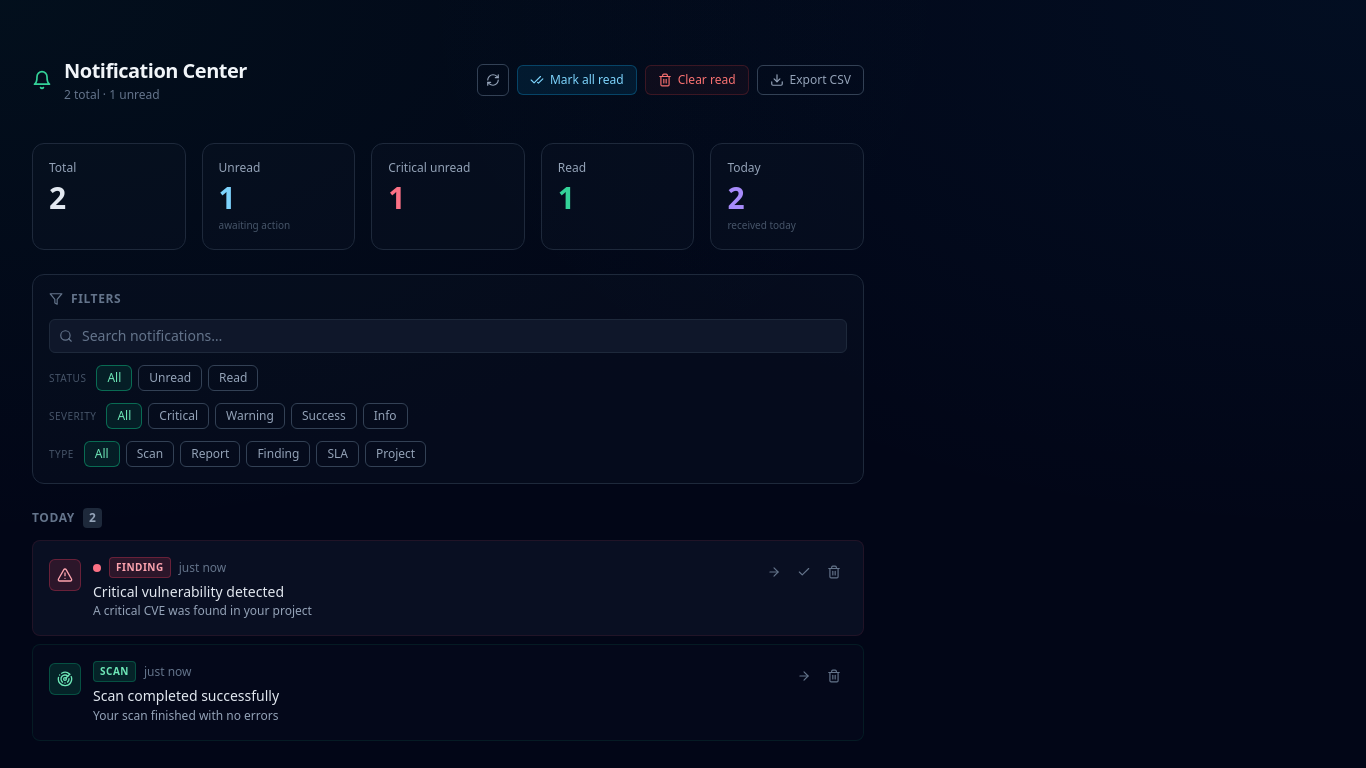
Notifications — type filter › type "Finding" filter shows only critical_finding notifications
Expected: the text "Scan completed successfully" is shown, top-left (93, 686), bottom-right (279, 705)
Click the button "Finding" at (278, 454), box top-left (246, 441), bottom-right (310, 467)
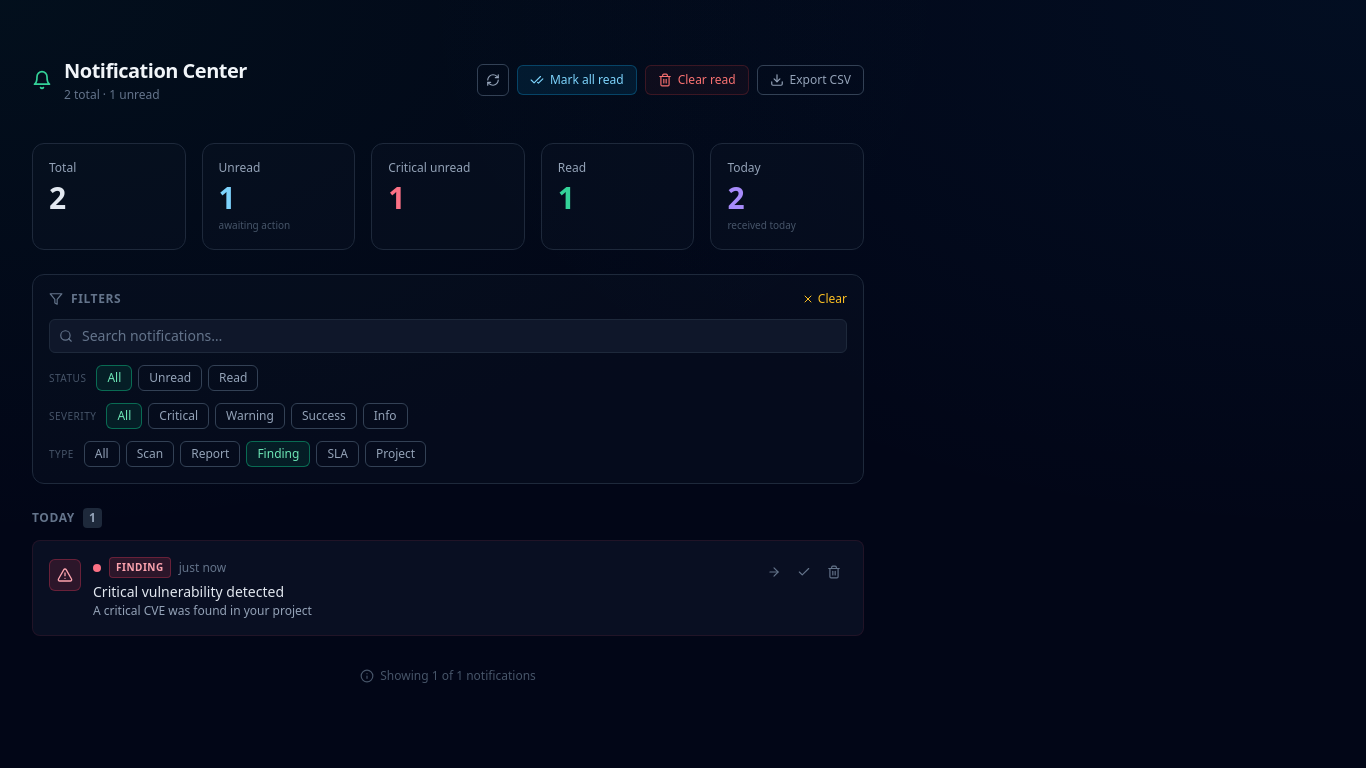
Expected: the text "Critical vulnerability detected" is shown, top-left (93, 582), bottom-right (284, 601)
Expected: the text "Scan completed successfully" is gone
